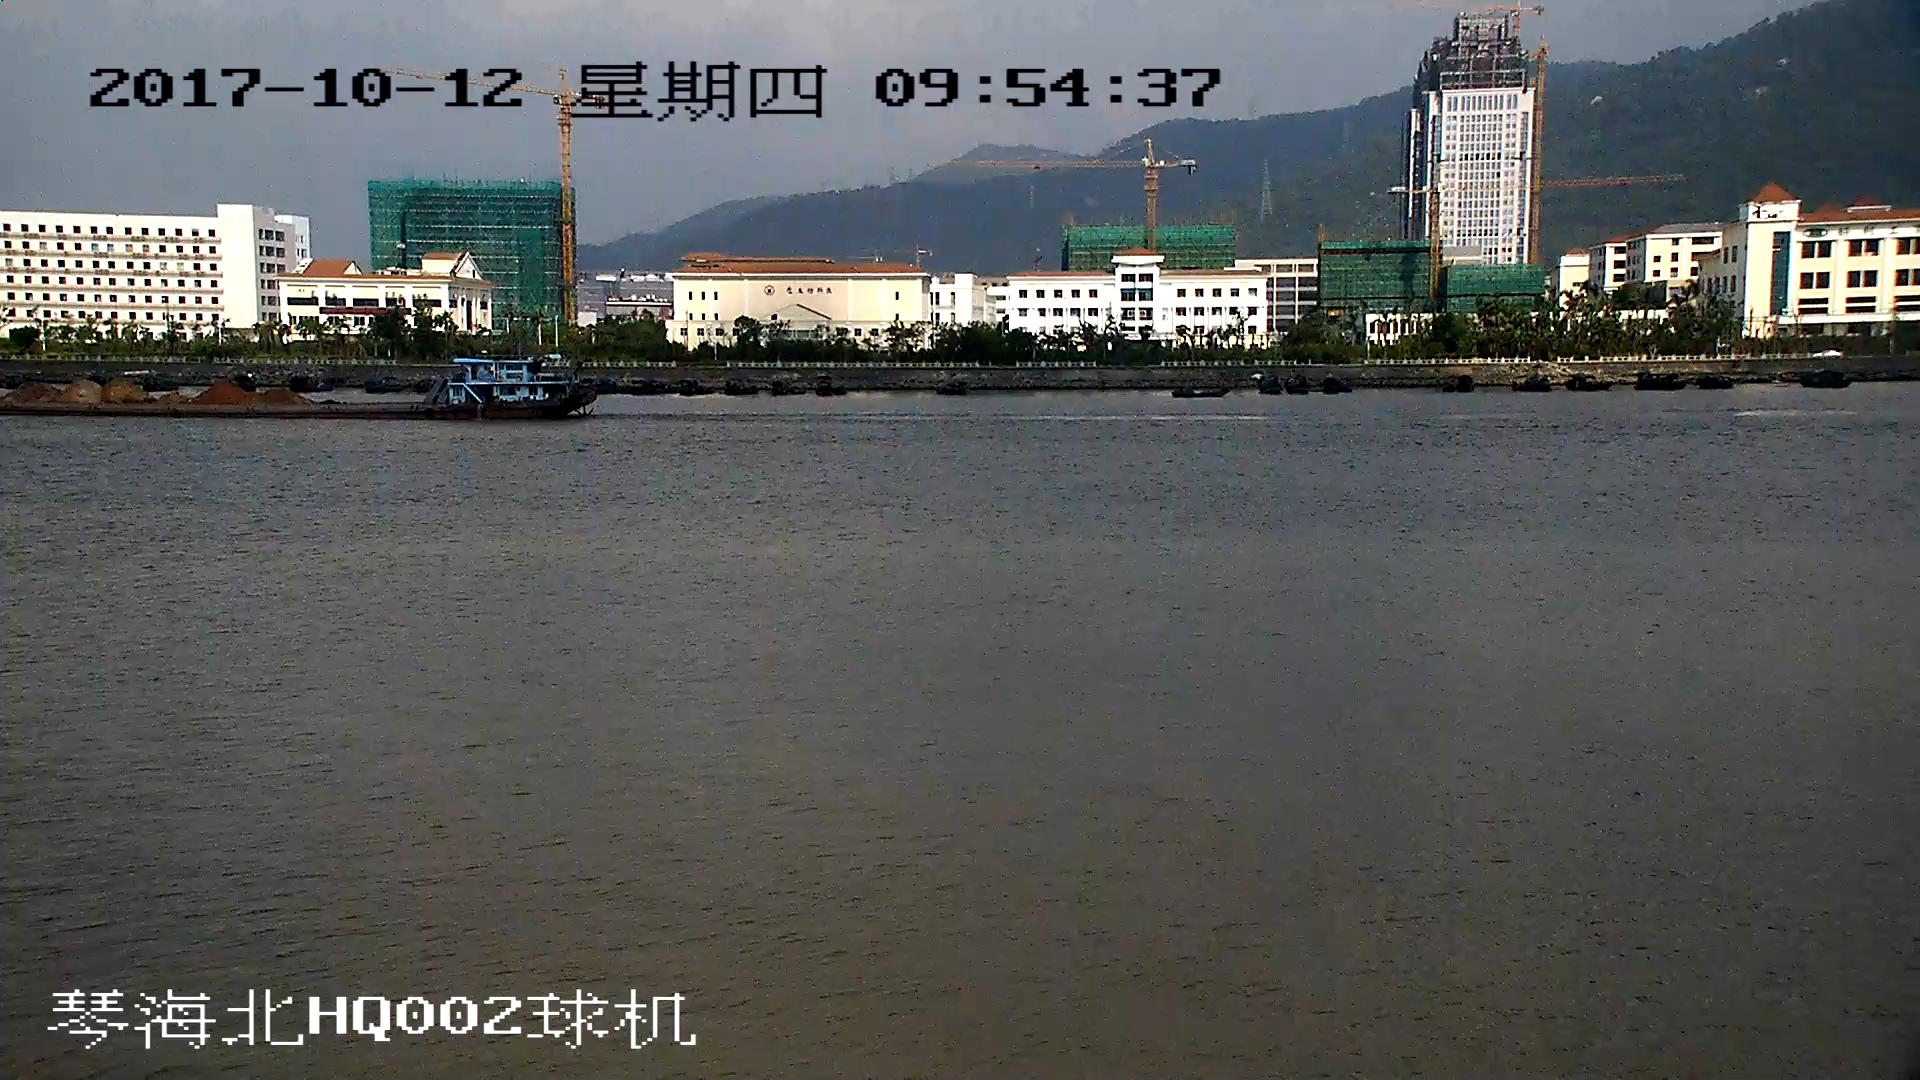ore carrier: (1, 359, 596, 418)
